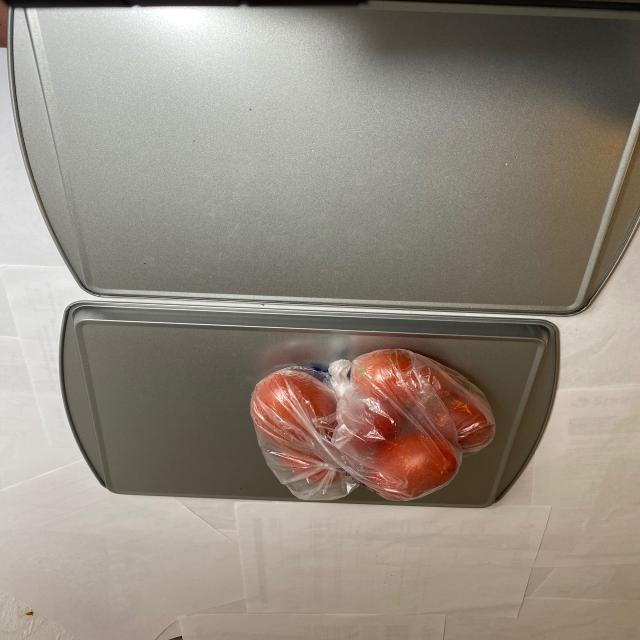tomato: (254, 349, 499, 496)
